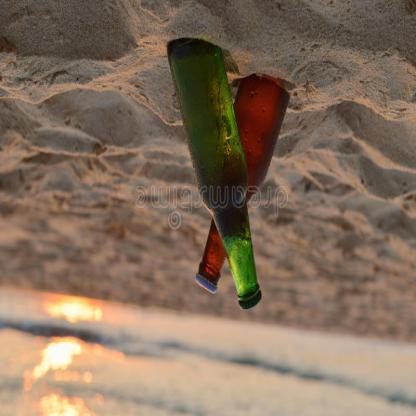Glass: (161, 40, 263, 315), (195, 74, 292, 292)
